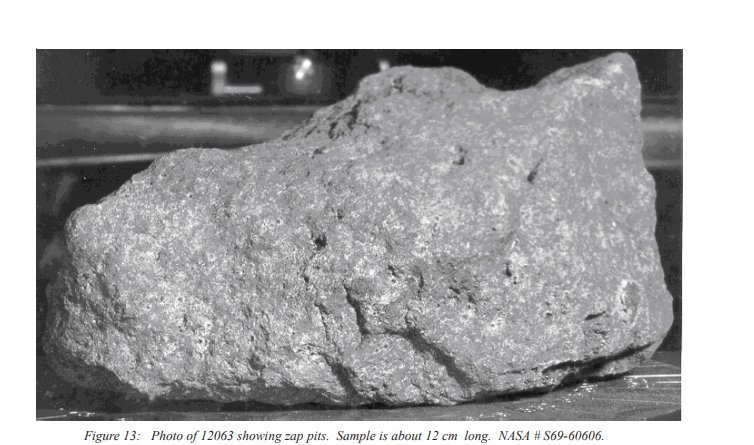Basalt: (33, 48, 679, 415)
